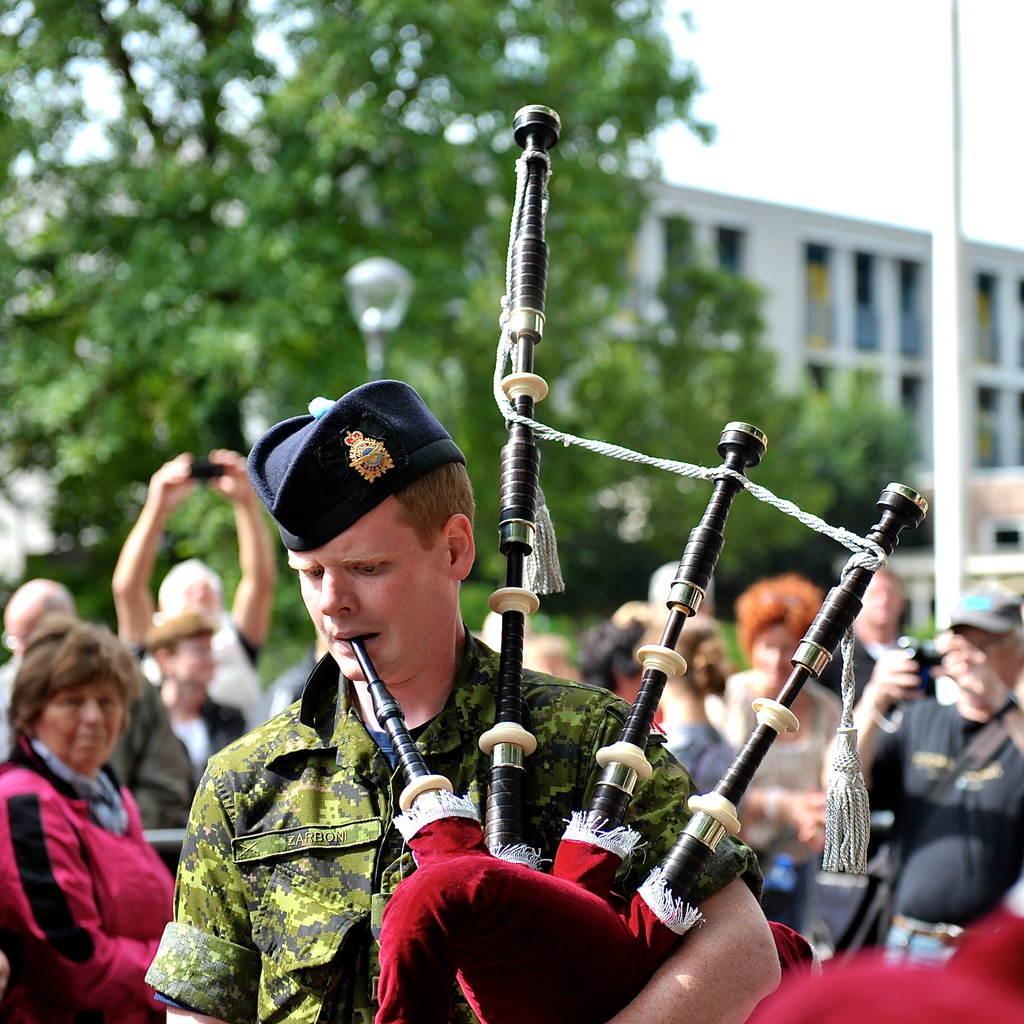Person: (0, 440, 1024, 952), (142, 379, 779, 1023)
